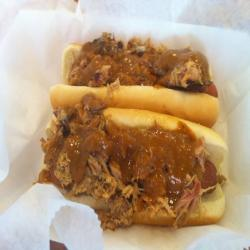hotdog: (34, 104, 238, 236), (33, 32, 237, 131)
